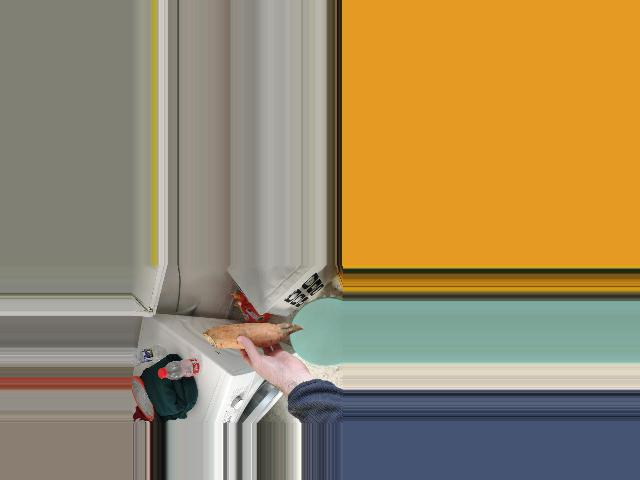sweet_potato: (210, 321, 296, 353)
